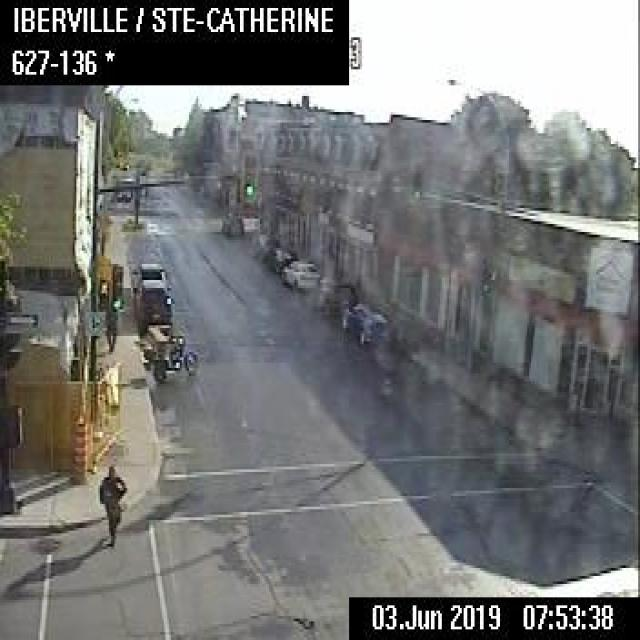construction: (70, 416, 88, 482)
pedestrian: (95, 462, 127, 550), (104, 303, 116, 351)
vehicle: (141, 334, 199, 386), (339, 299, 392, 347), (134, 277, 171, 330), (316, 274, 356, 320), (280, 255, 318, 289), (265, 243, 293, 270), (249, 231, 275, 257), (134, 259, 166, 280), (110, 173, 132, 201), (220, 214, 245, 238)
